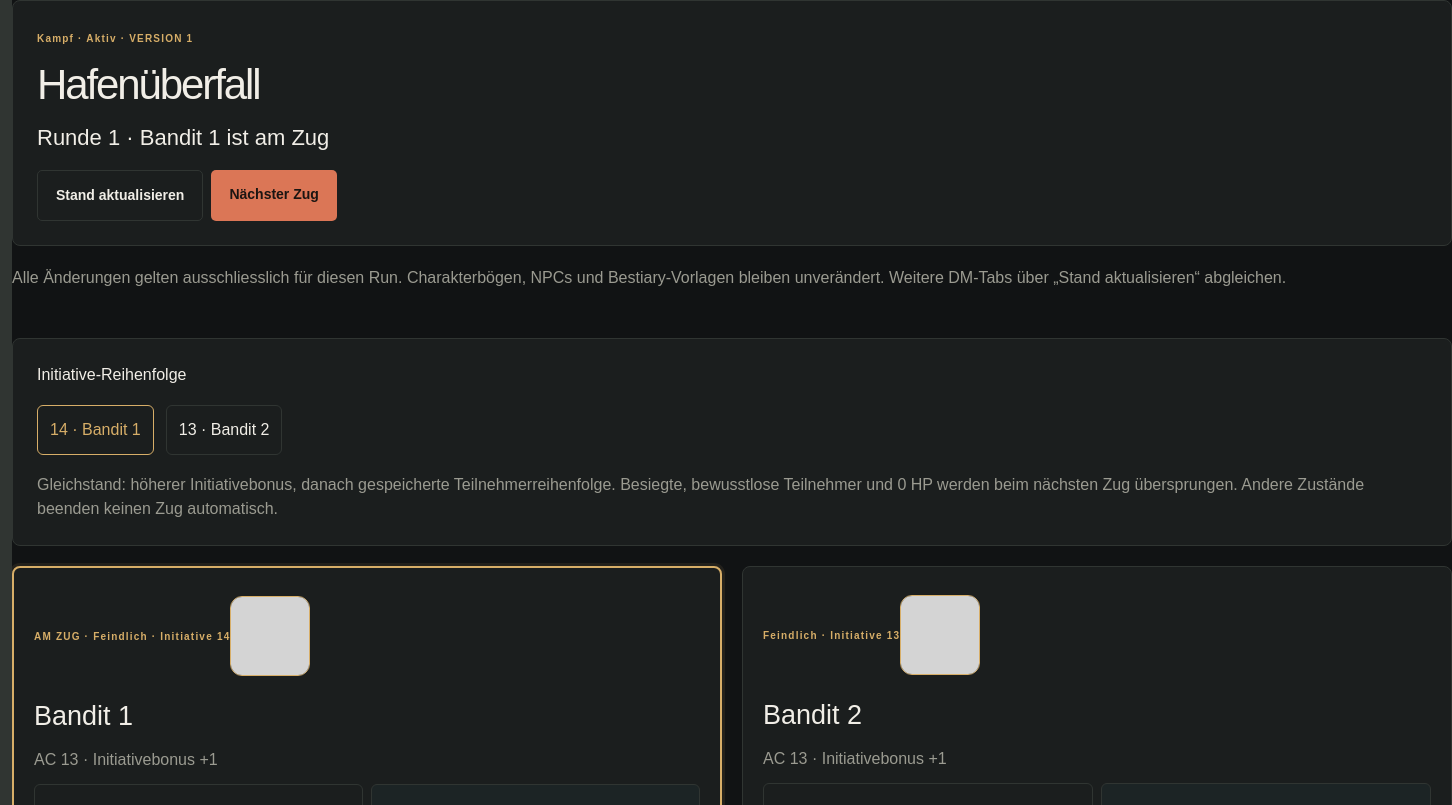
Test: updates active participant and round from the server response
Step 1. Click the button "Nächster Zug" → (274, 195), box 211,170 -> 337,221
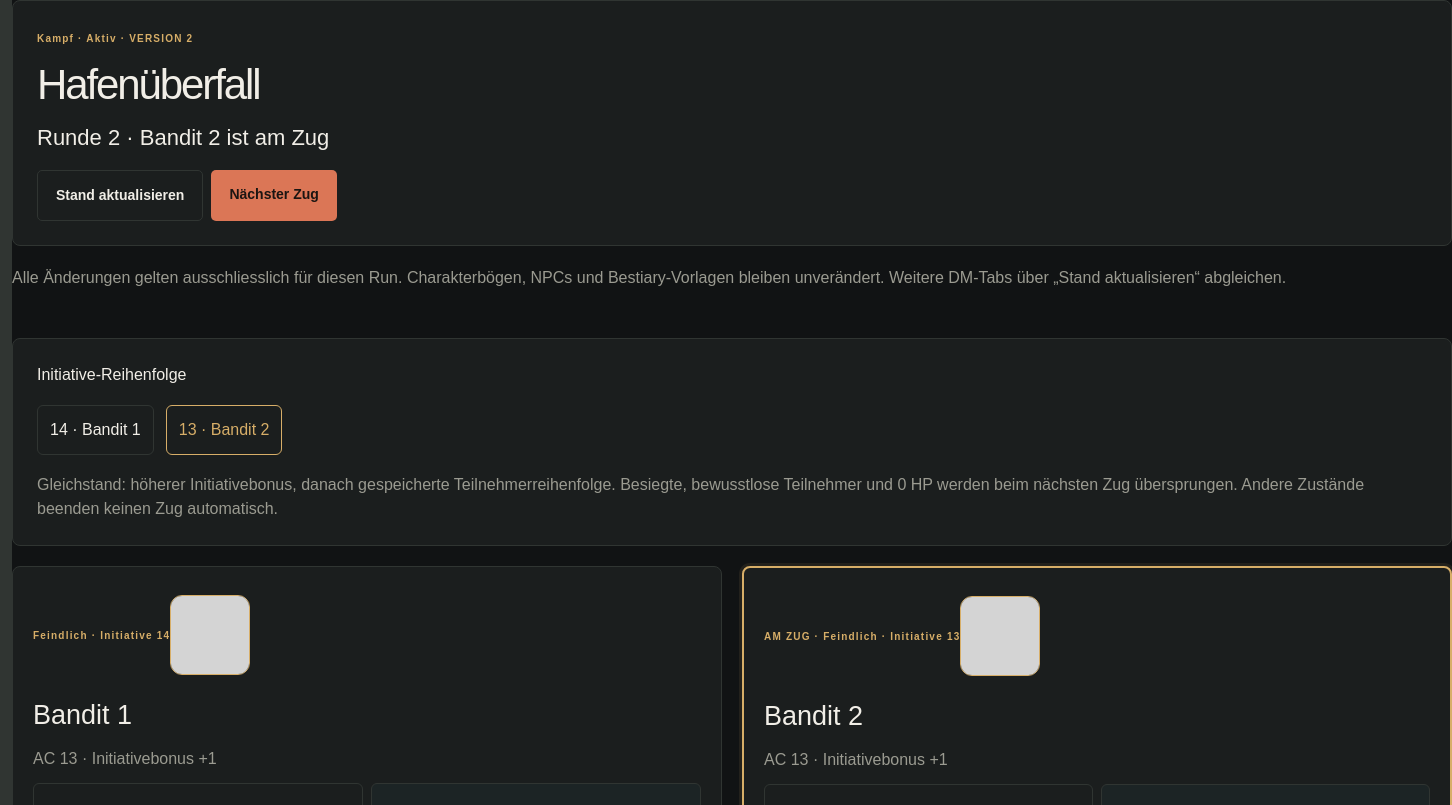
Check: the heading "Runde 2 · Bandit 2 ist am Zug" is shown, box 37,125 -> 329,150
